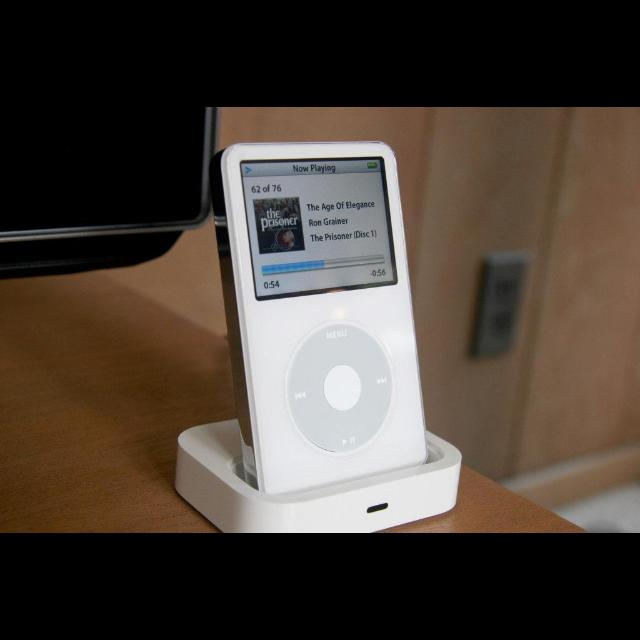Music-Player: (205, 130, 432, 487)
